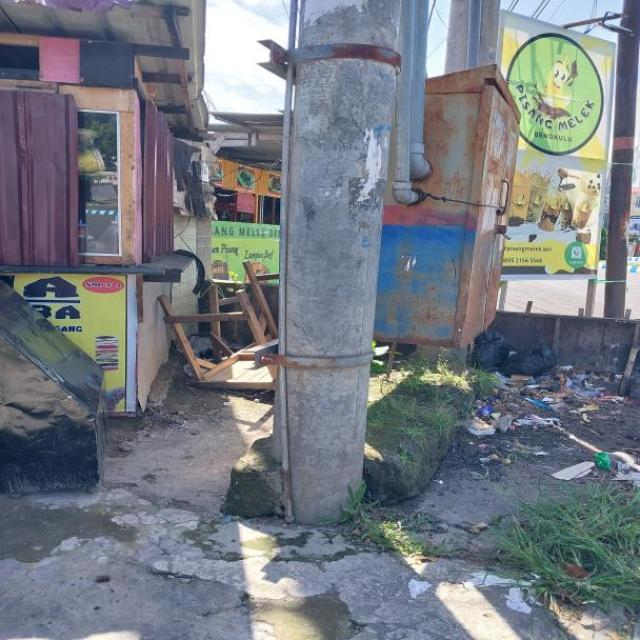electric pole ahead at: (255, 0, 410, 527)
